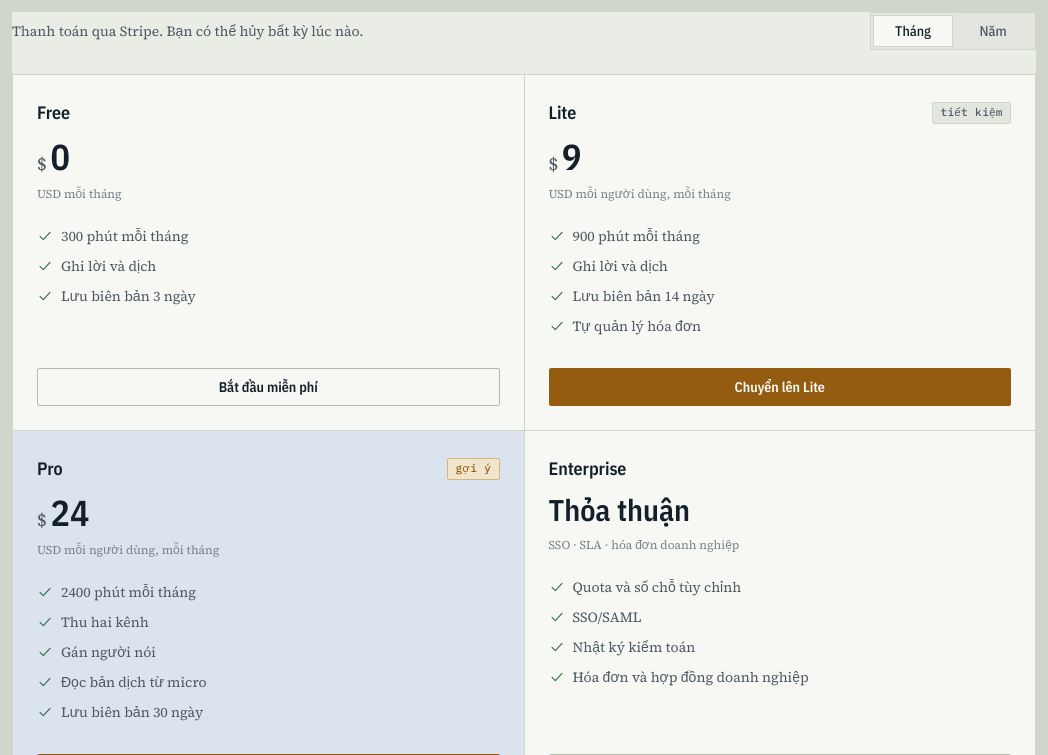
Test case: PricingCards › shows monthly pricing by default and switches to yearly with discount
This screenshot has width=1048, height=755.
Expected: the text "24" is shown, [50, 495, 89, 531]
Click the button "Năm" at (993, 31), box [953, 15, 1033, 47]
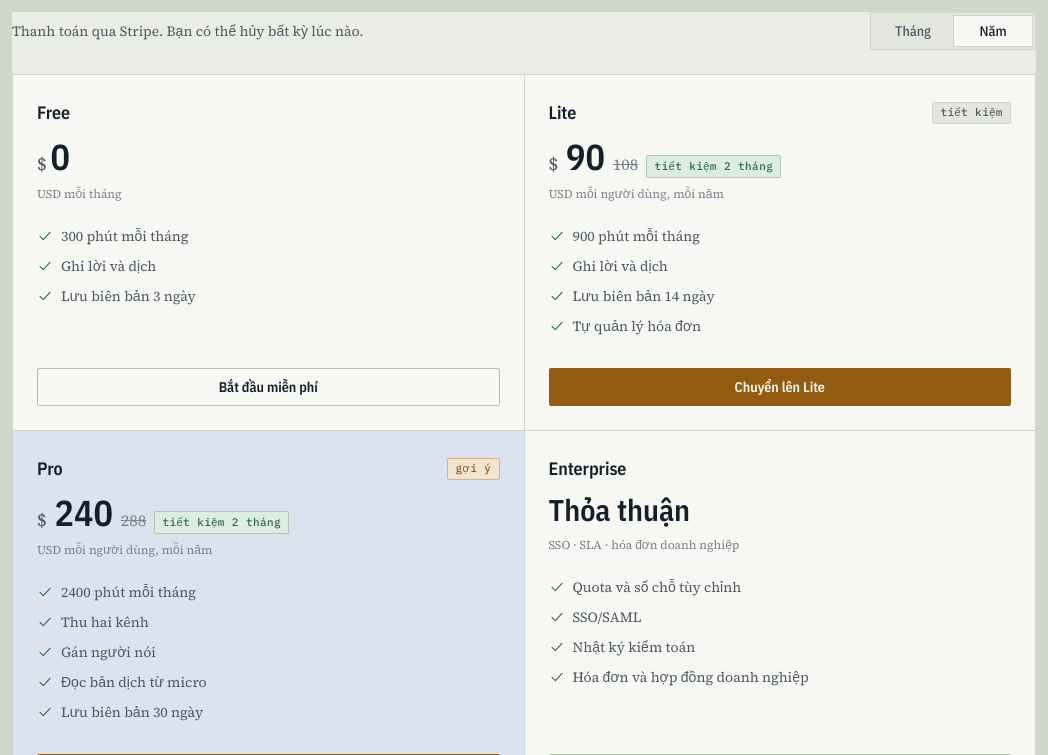
Expected: the text "288" is shown, [121, 508, 146, 532]
Expected: the text "240" is shown, [54, 495, 113, 531]
